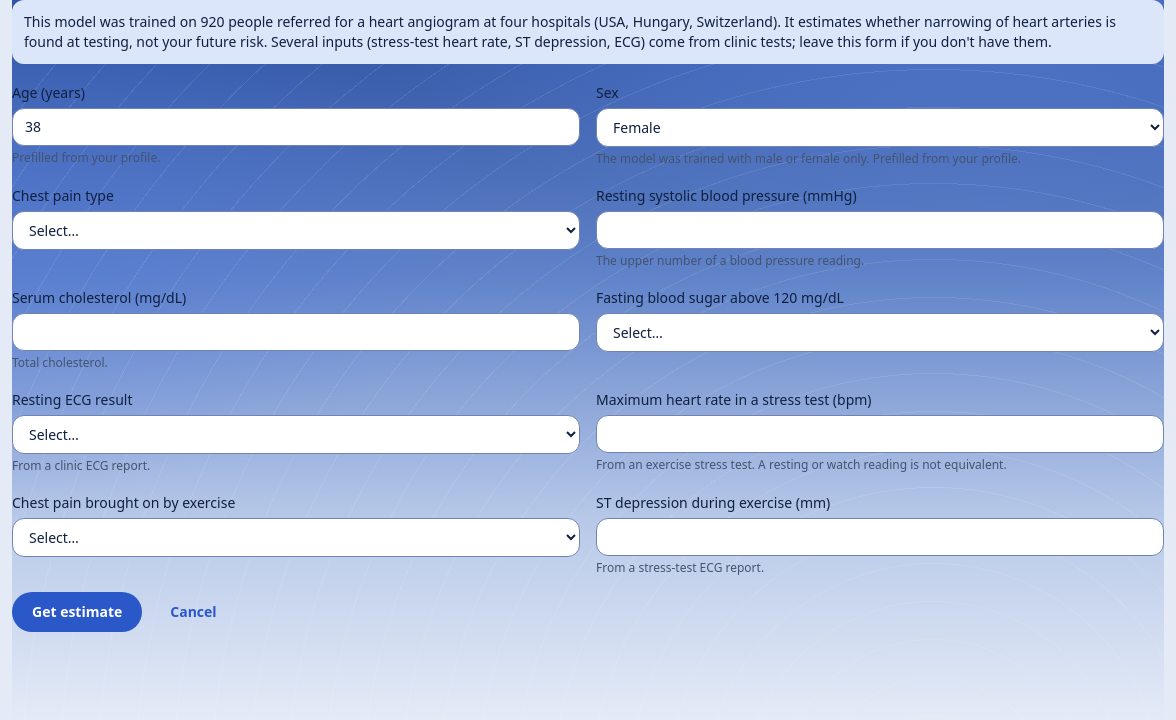
Test case: EstimateForm for heart disease › asks for a choice instead of guessing a category
Click the button "Get estimate" at (77, 612), box [12, 592, 142, 632]
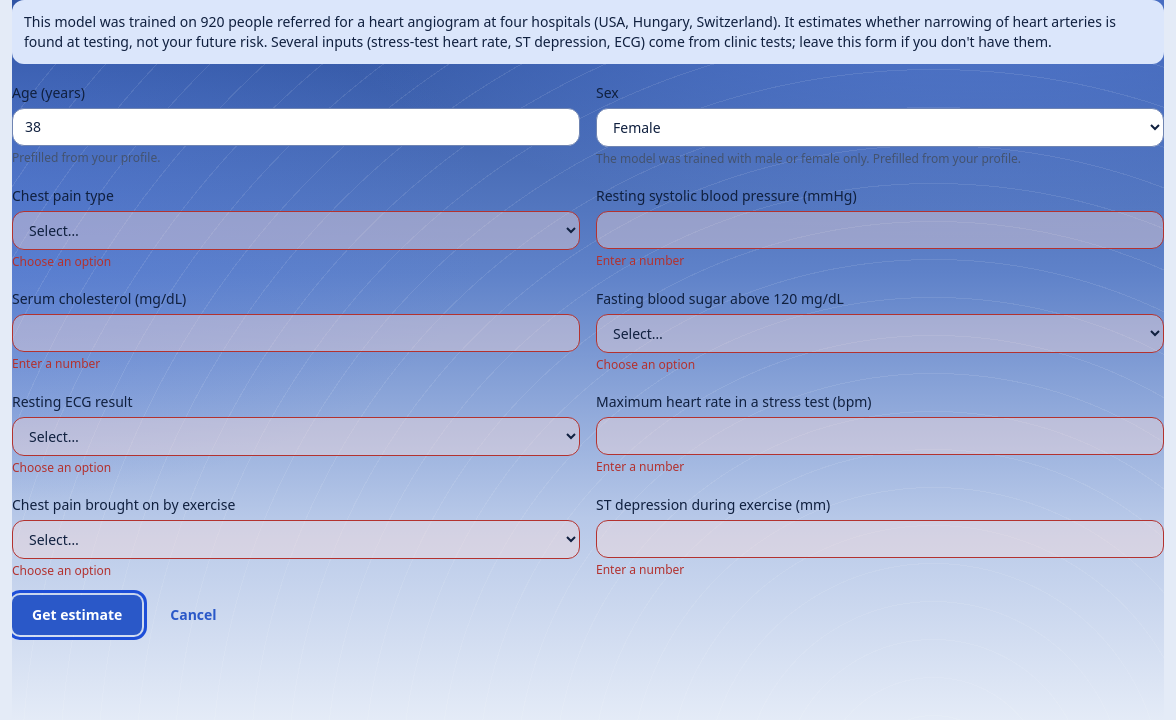
Check: the text "Choose an option" below "Chest pain type" is shown, box [12, 253, 111, 270]
